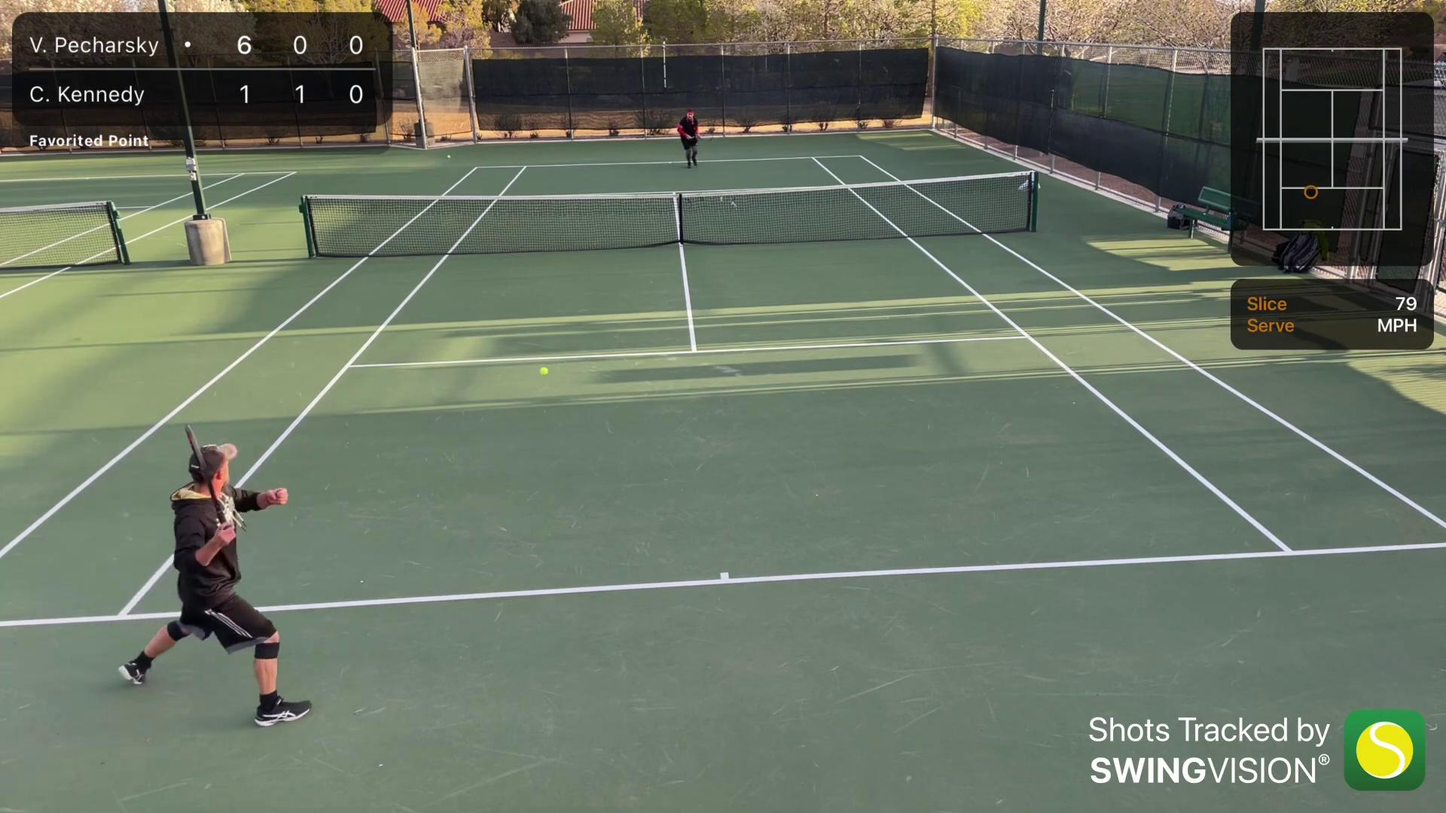ball: (537, 365, 552, 378), (446, 154, 451, 160)
